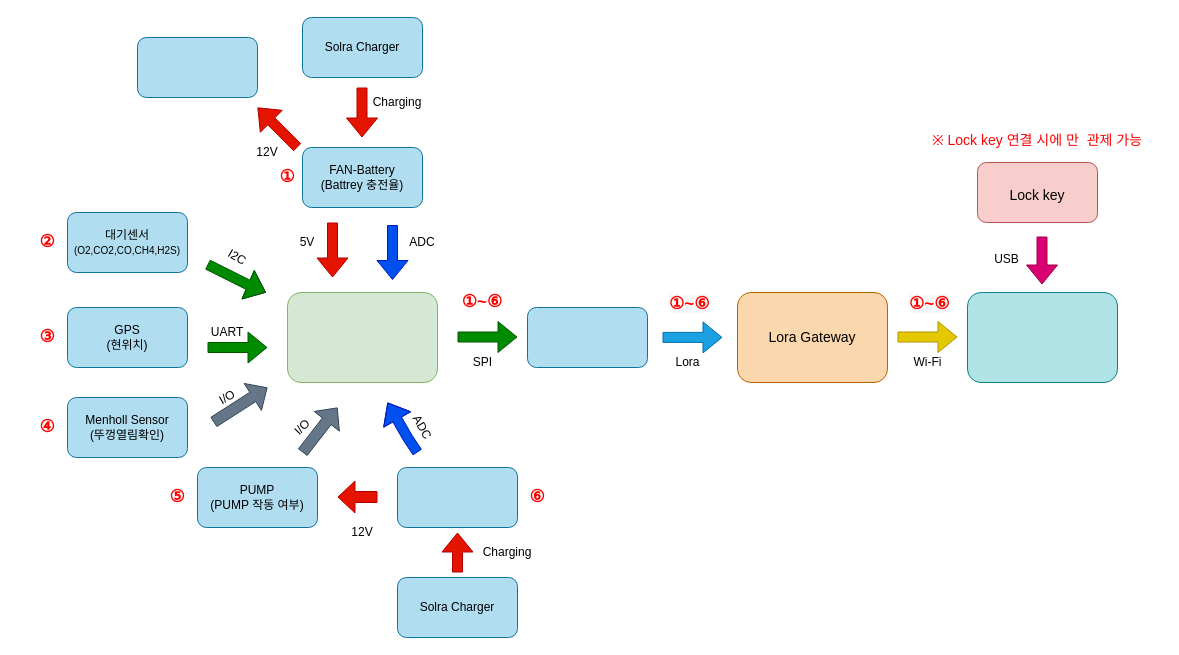
Image size: 1179x655. Some labels were removed from this diagram. The centre of each missing label's shape, as x and y in pixels:
"FAN" goes at [197,67].
"Lora Module" goes at [587,337].
"MCU" goes at [362,337].
"PC (측정 값 관찰)" goes at [1042,337].
"PUMP-Battery (Battrey 충전율)" goes at [457,497].
